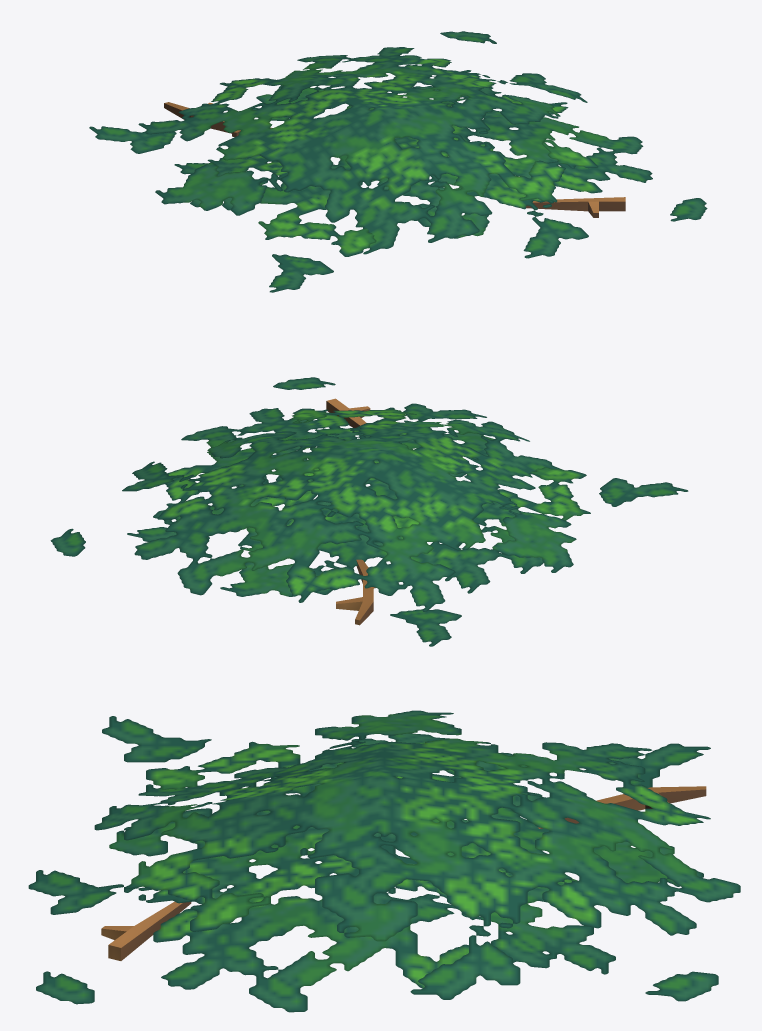
The model's file is LeavesTwigPile.fbx.
3 views of the same model, one above another, from view 1: azimuth 30°, elevation 25°; view 2: azimuth 150°, elevation 25°; view 3: azimuth 270°, elevation 25° (orthographic). The views are drawn at different scales.
Visible parts, largest first — view 1: LeavesTwigPile; view 2: LeavesTwigPile; view 3: LeavesTwigPile.
Part boxes in pixels (x1,y1,x2,y2): LeavesTwigPile: (89, 31, 707, 292); LeavesTwigPile: (50, 377, 688, 646); LeavesTwigPile: (28, 710, 740, 1012).
Size of the model in its own units: 25 by 3.23 by 25.
